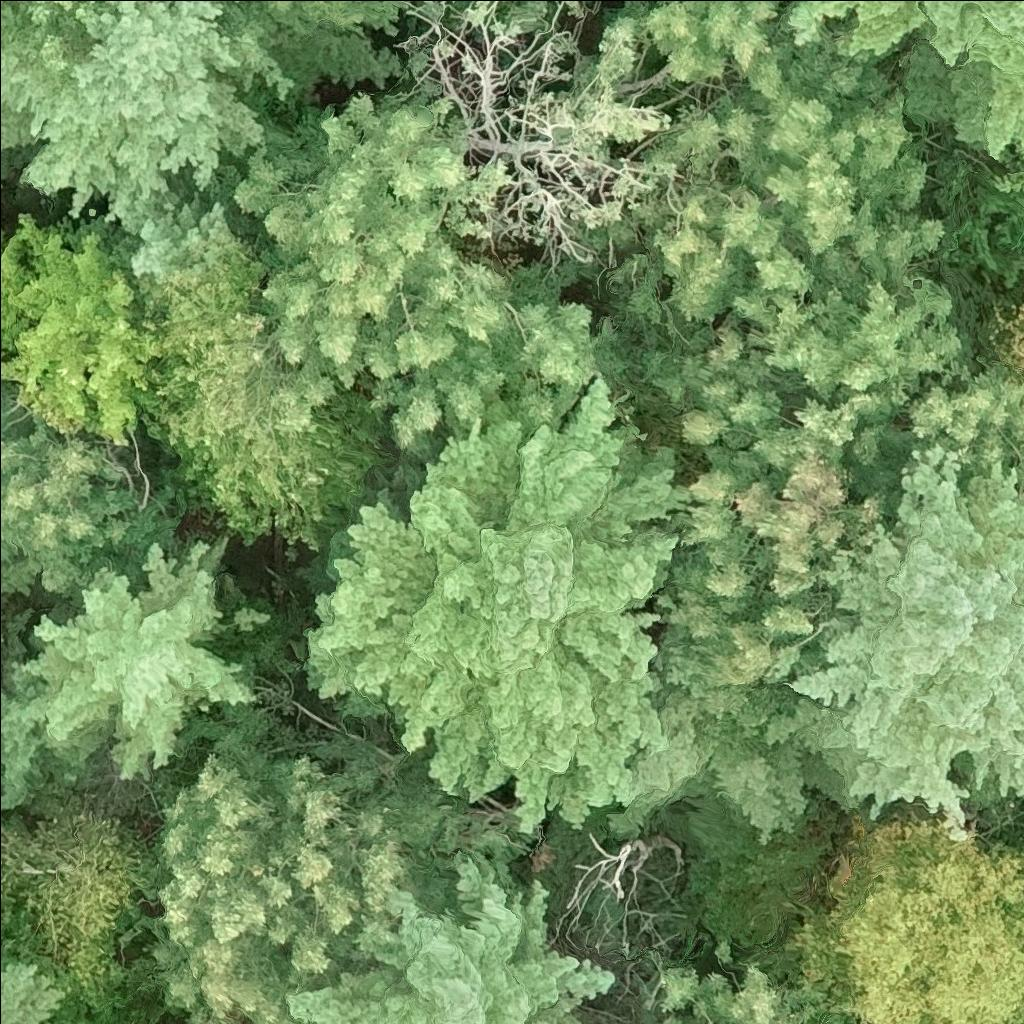crown: (304, 381, 697, 830), (674, 264, 1023, 692), (617, 0, 949, 403), (236, 96, 595, 443), (154, 709, 524, 1023), (790, 444, 1023, 827), (0, 0, 288, 279), (140, 234, 389, 547), (0, 532, 265, 810), (283, 851, 608, 1023), (797, 823, 1023, 1023), (0, 373, 181, 606), (0, 213, 156, 453), (794, 0, 1023, 151), (0, 807, 163, 1000), (552, 831, 686, 955), (218, 0, 400, 80), (655, 967, 813, 1023), (0, 971, 60, 1023), (0, 541, 36, 597), (0, 0, 79, 16), (999, 165, 1023, 201), (1018, 849, 1023, 857)
